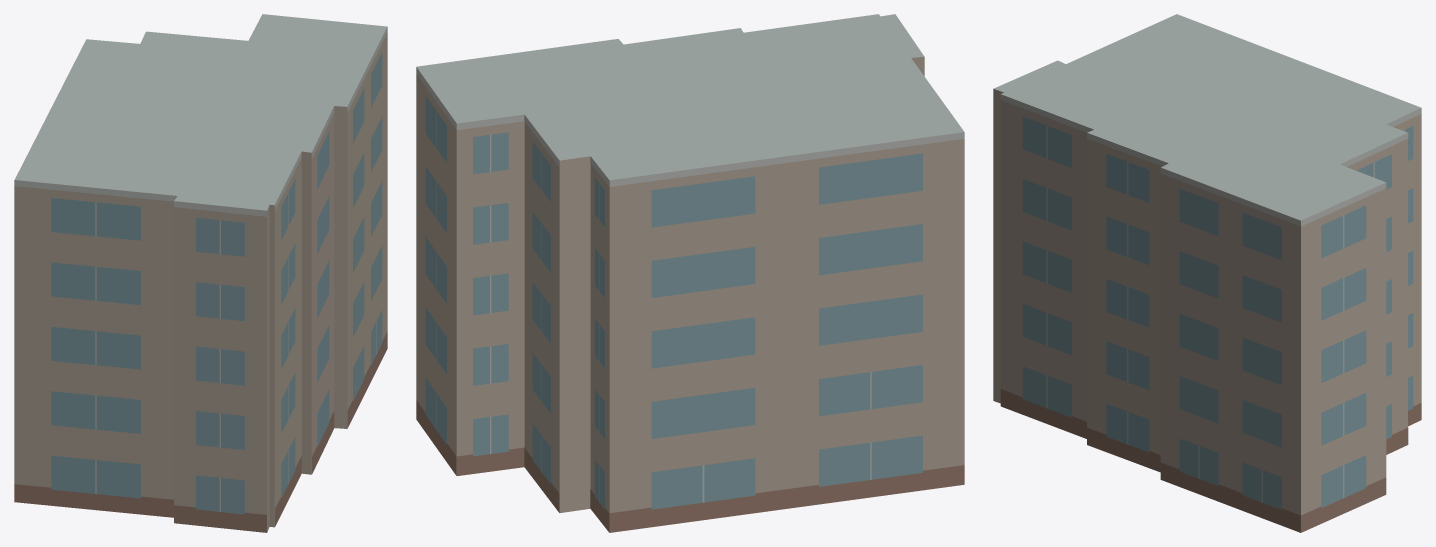
File: survey-upis-32680039.glb
The picture shows the model from 3 angles, left to right: view 1: azimuth 30°, elevation 25°; view 2: azimuth 150°, elevation 25°; view 3: azimuth 270°, elevation 25°; orthographic projection. The views are drawn at different scales.
Visible parts, largest first — view 1: survey-upis-32680039.tmp; view 2: survey-upis-32680039.tmp; view 3: survey-upis-32680039.tmp.
Part boxes in pixels (x1=…): survey-upis-32680039.tmp: x1=14, y1=14, x2=387, y2=532; survey-upis-32680039.tmp: x1=416, y1=14, x2=964, y2=532; survey-upis-32680039.tmp: x1=993, y1=14, x2=1421, y2=532.
Bounding box in the file's own units: 18.34 × 12.91 × 16.06.
